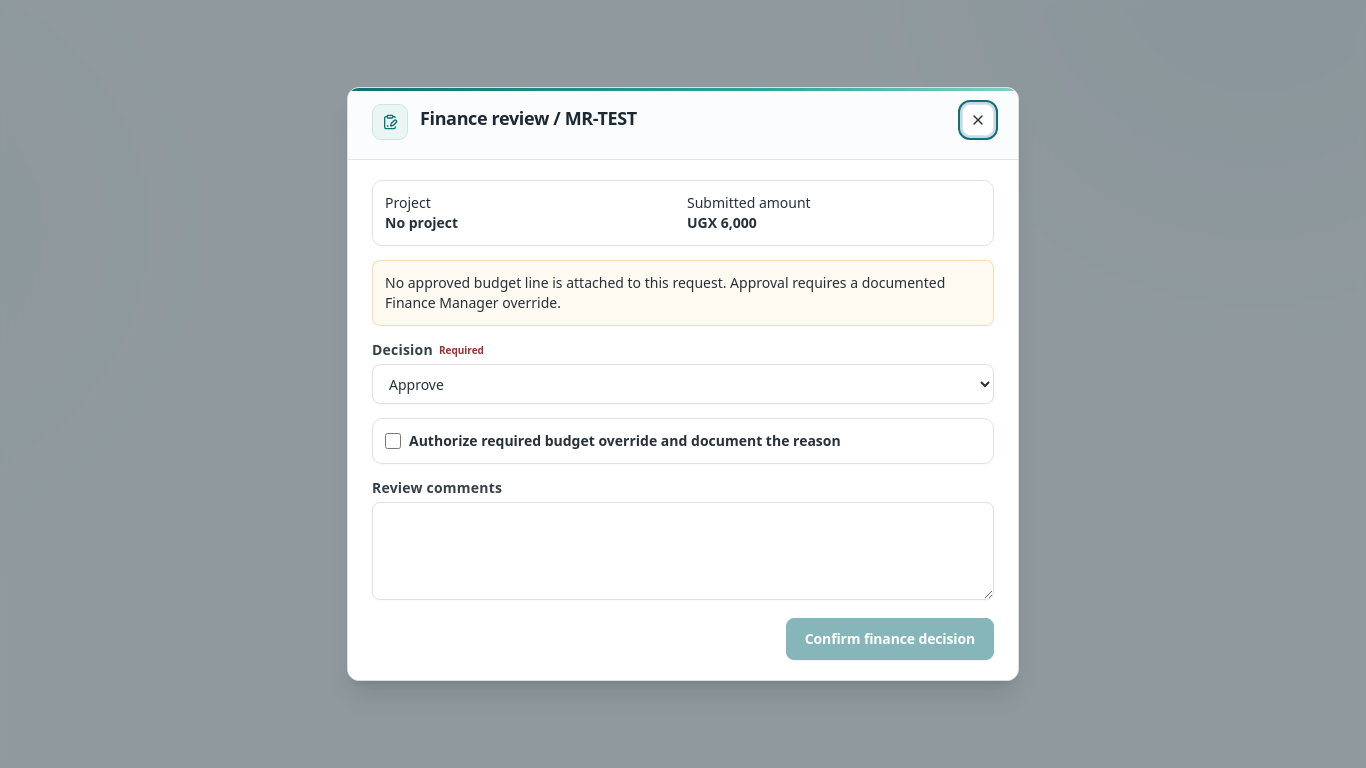
Finance review readiness › shows the actual submitted amount, not the MR estimate
Check: the text "UGX 6,000" is shown, box [687, 213, 757, 232]
Check: the button "Confirm finance decision" is disabled, box [786, 618, 994, 660]
Click the checkbox at (393,441), box [385, 433, 401, 449]
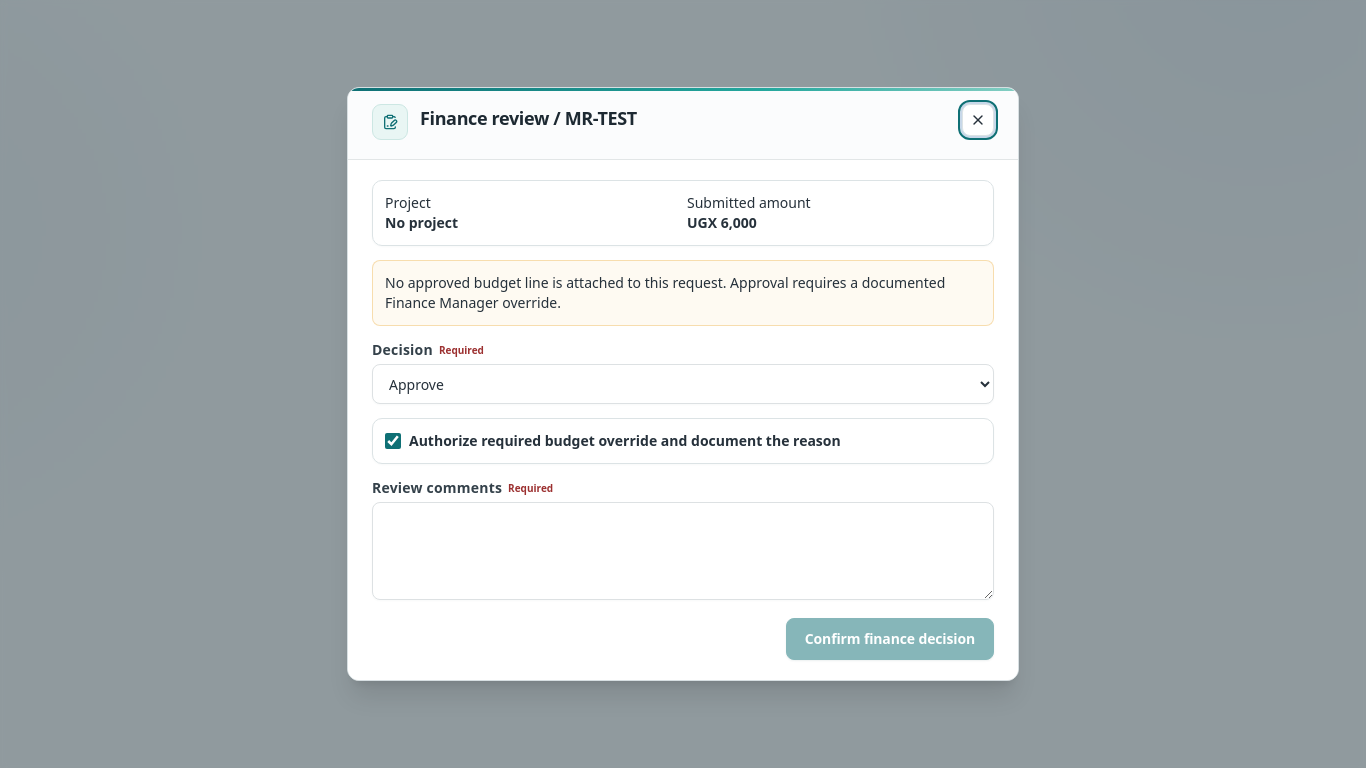
Type "Approve this documented QA exception." into the text box at (683,551), box [372, 502, 994, 600]
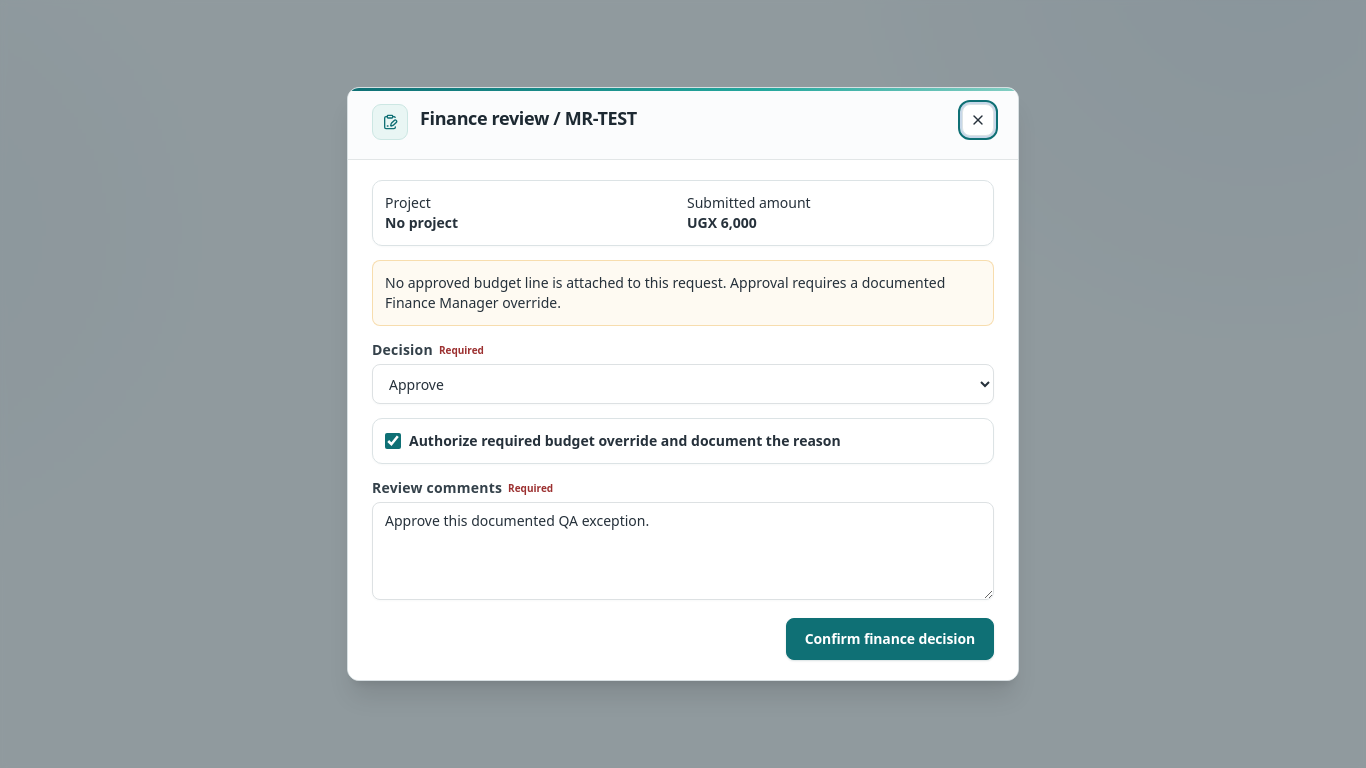
Check: the button "Confirm finance decision" is enabled, box [786, 618, 994, 660]
